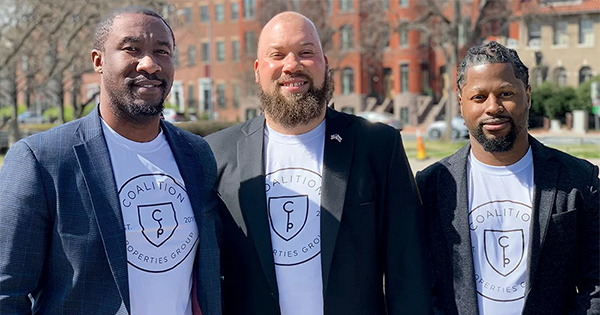bare: (99, 56, 177, 118), (258, 62, 327, 123), (459, 101, 535, 151)
